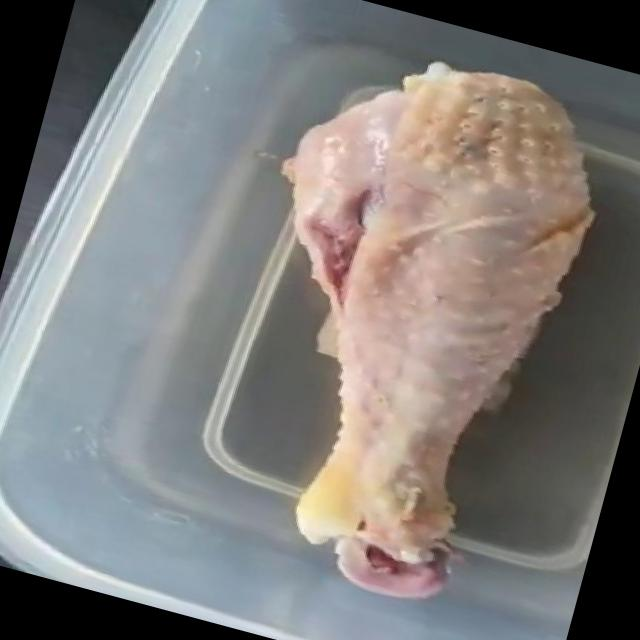chicken: (184, 19, 626, 626)
